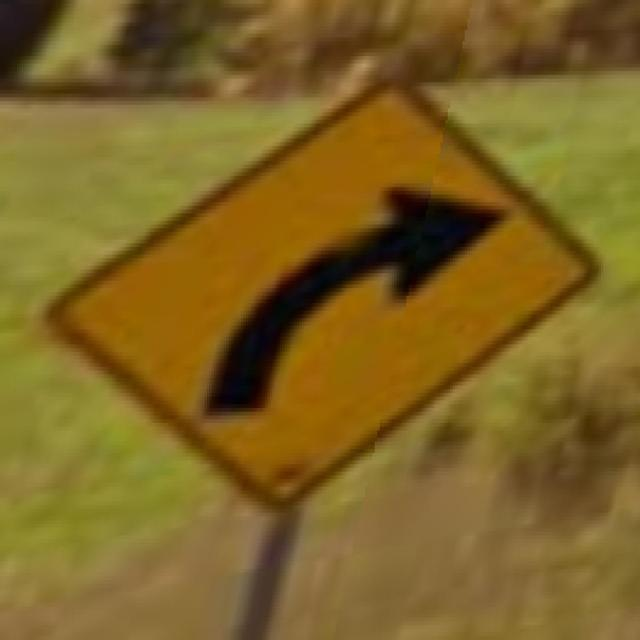Tikungan Ke Kanan: (36, 68, 598, 516)
